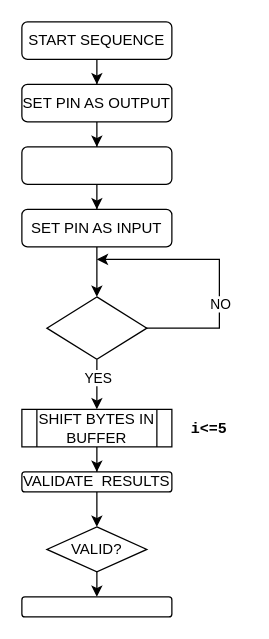
Some shapes in this 269 by 639 pixel diagram are drawn without their labels. The centre of each missing label's shape, as x and y in pixels:
"SAVE DATA" goes at (96,606).
"SEND START SIGNAL" goes at (96,165).
"SIGNAL LOW?" goes at (96,327).
